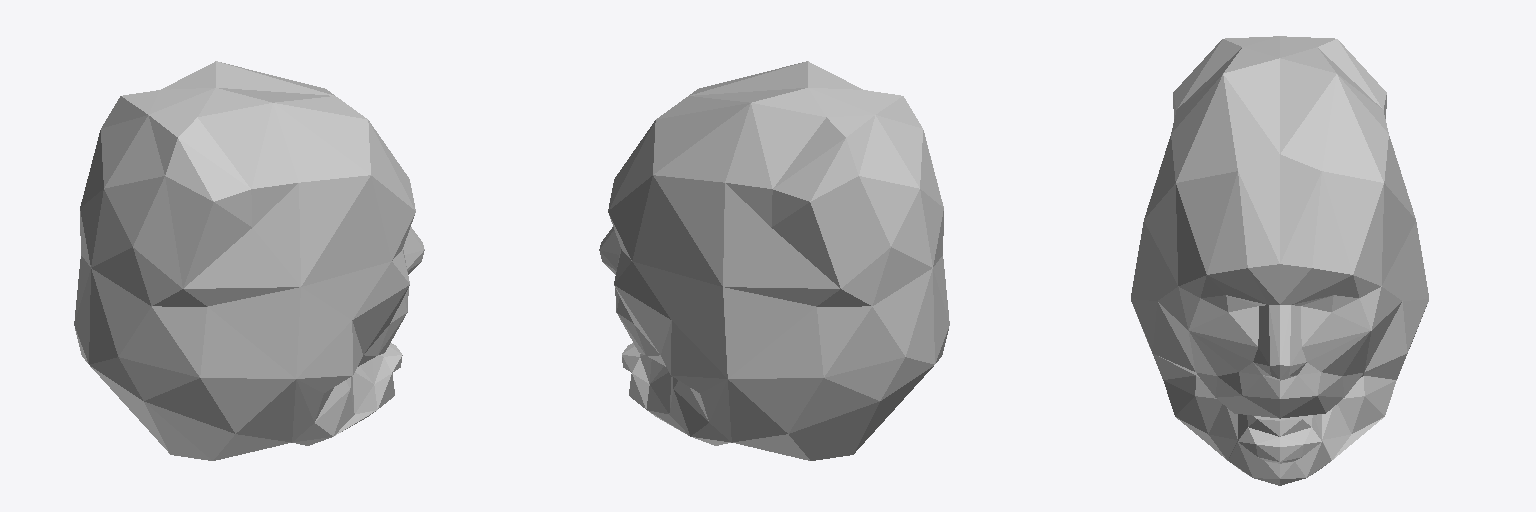
Rendered from head.obj.
3 renders of one model, left to right at view 1: azimuth 30°, elevation 25°; view 2: azimuth 150°, elevation 25°; view 3: azimuth 270°, elevation 25°, orthographic.
Visible parts, largest first — view 1: lostsoul; view 2: lostsoul; view 3: lostsoul.
Boxes of the visible parts, x1,y1,x2,y2 form: lostsoul: [74, 61, 424, 460]; lostsoul: [599, 61, 949, 460]; lostsoul: [1131, 36, 1428, 485].
Size of the model in its own units: 37.37 by 38.09 by 28.98.